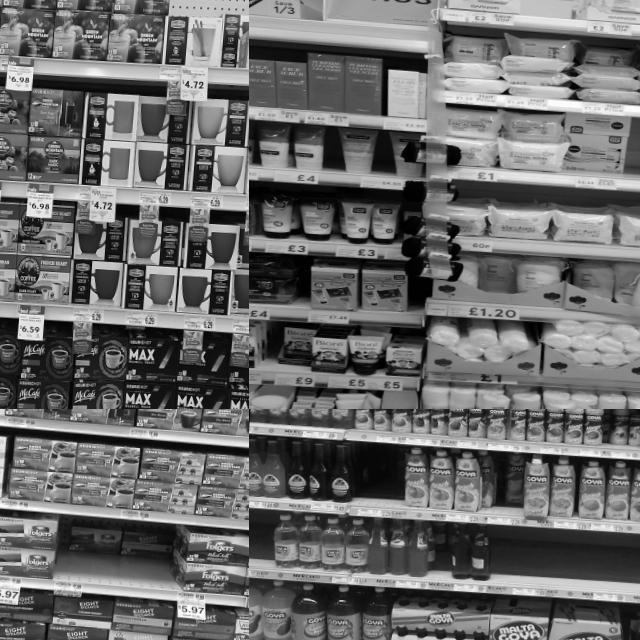Imprecise: (56, 524, 170, 576), (478, 449, 527, 514), (472, 252, 516, 306), (274, 320, 316, 374), (428, 524, 450, 578)
